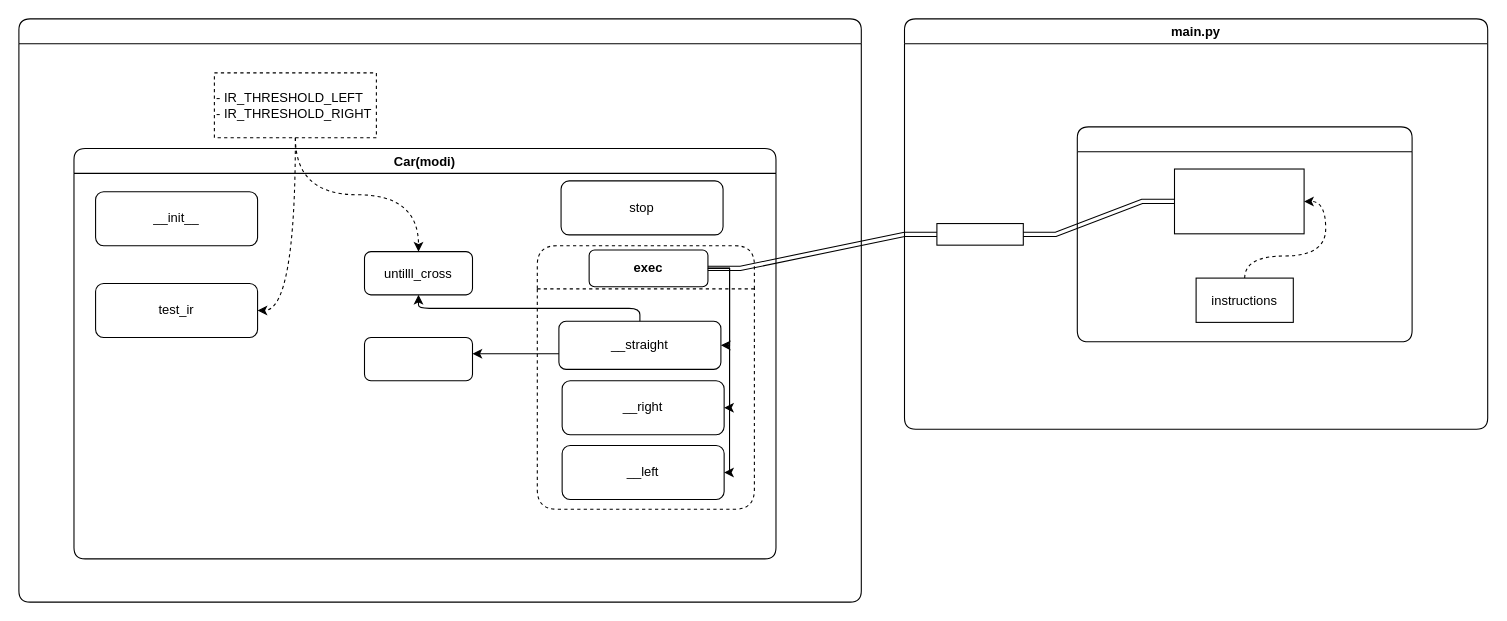
The diagram is 1507 pixels wide and 621 high, and some of its shapes have lost their labels. Each missing label, with the box of its shape:
__init__.py: (18, 18, 861, 602)
after_cross: (363, 336, 473, 381)
car: (1173, 168, 1304, 234)
if __name__ == "__main__": (1076, 126, 1412, 342)
instruction: (936, 222, 1023, 245)
